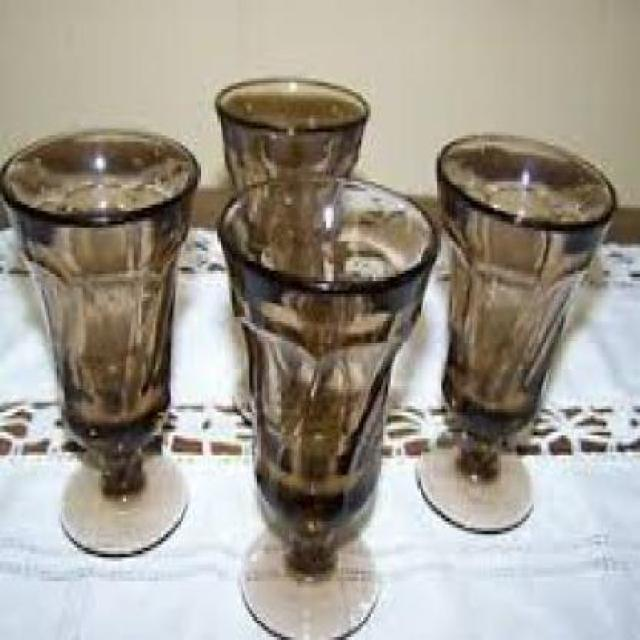kaca: (212, 168, 437, 637), (0, 126, 195, 550), (412, 132, 616, 525), (212, 77, 368, 423)
